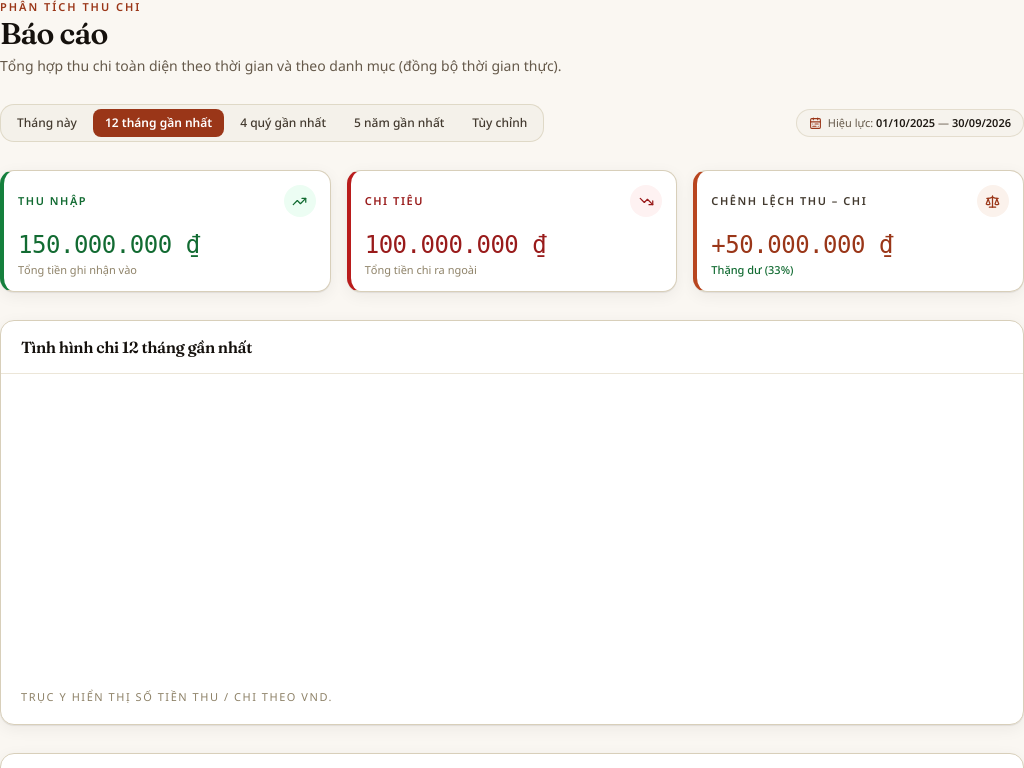
Scenario: ReportsPage (V1-04 / F06, F20) › Chuyển đổi preset thời gian cập nhật cả tiêu đề biểu đồ và dữ liệu
Click the button "4 quý gần nhất".
click(283, 123)  # box [228,109,338,137]
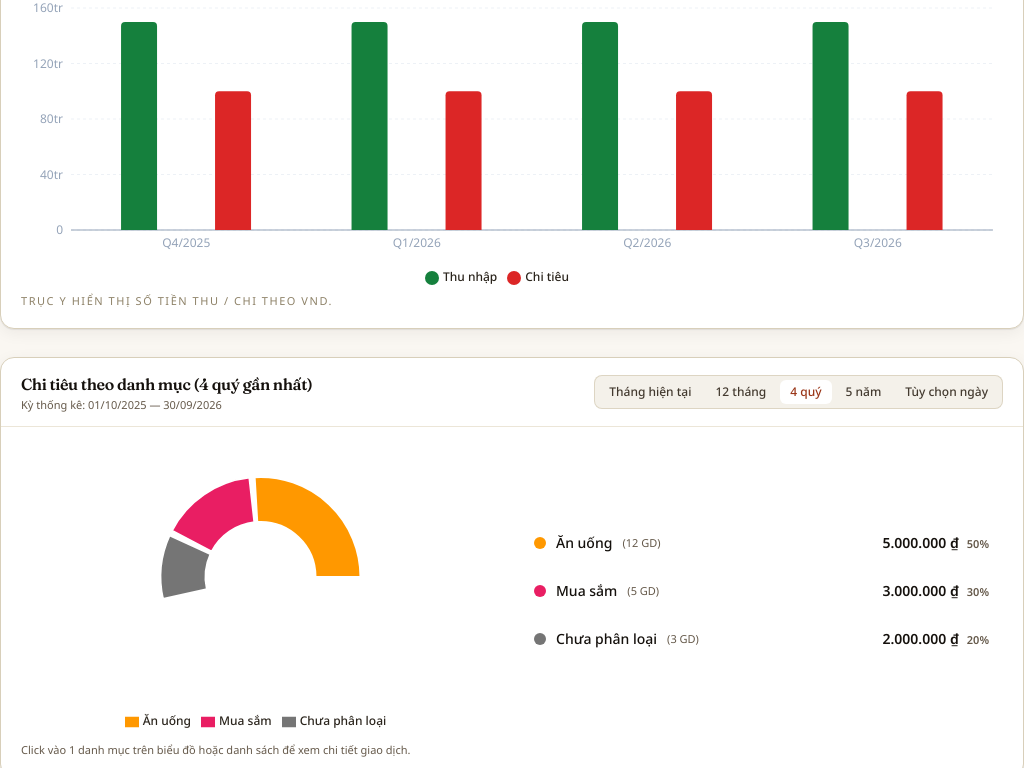
Expected: the heading "Chi tiêu theo danh mục (4 quý gần nhất)" is shown, [21,372,312,396]
